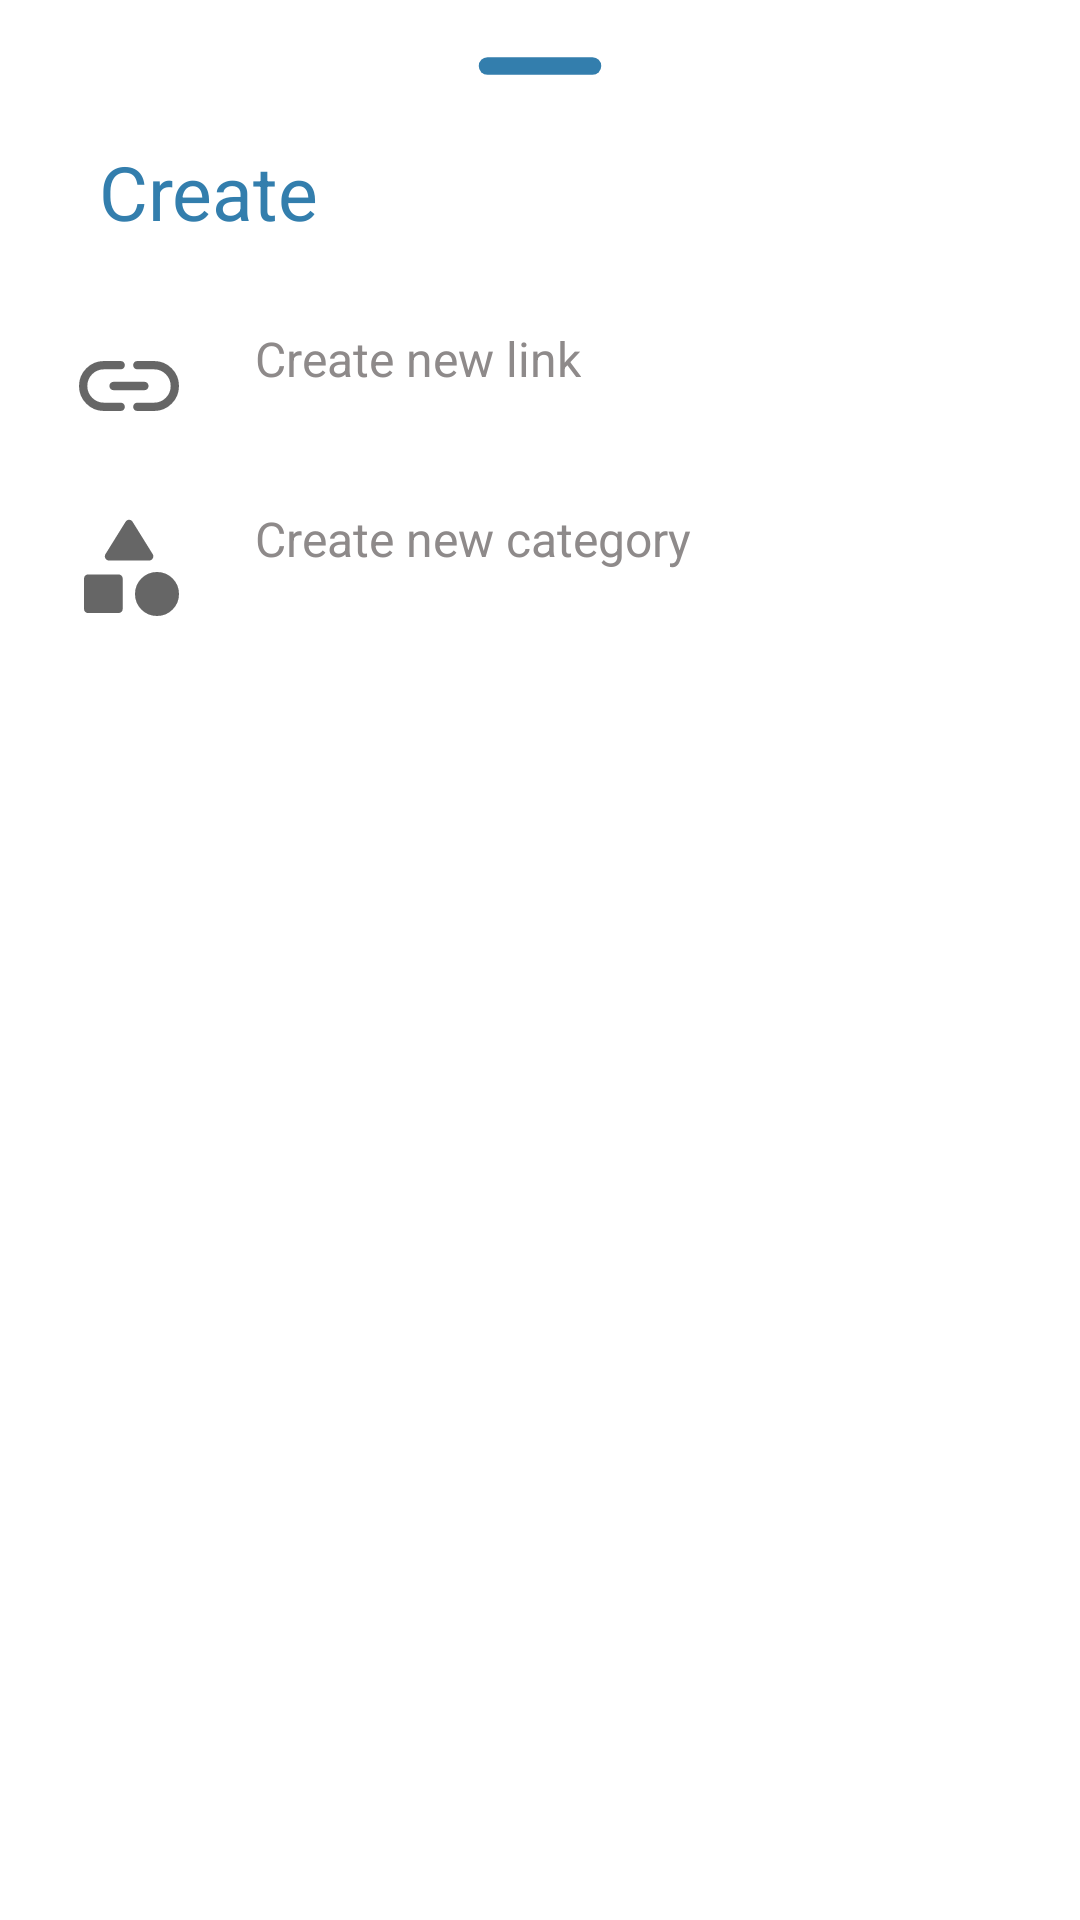

Icon click points for this 1080 x 1920 phone screenshot, format point (x, y):
categories: point (131, 567)
links: point (129, 386)
